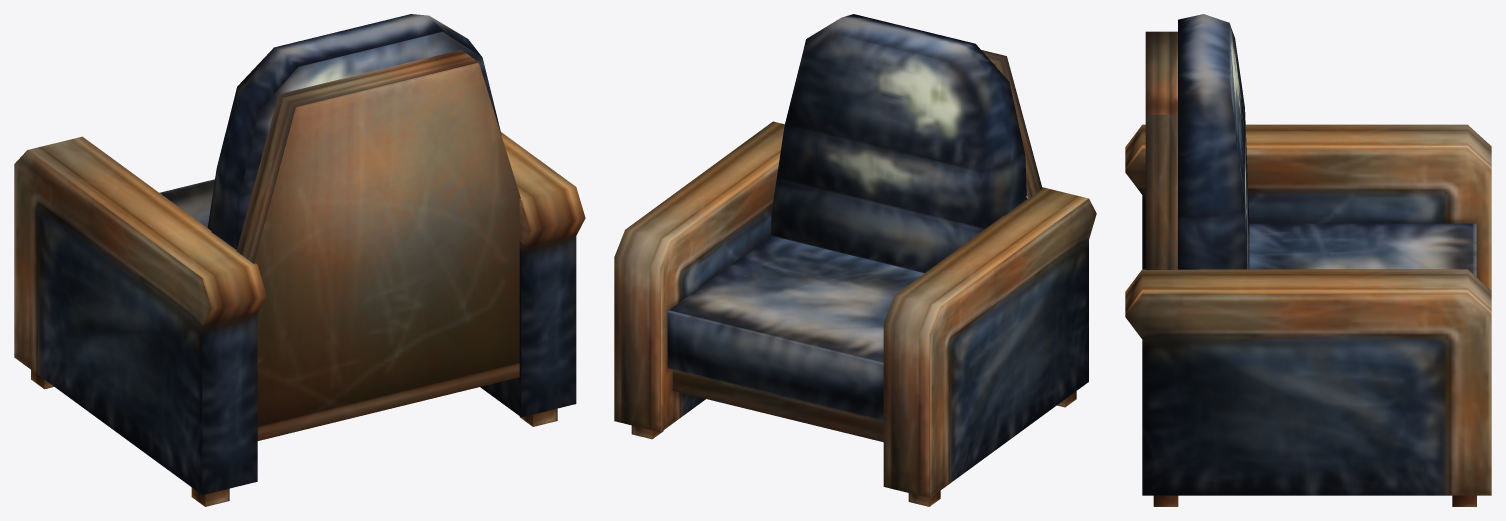
The model's file is c_SWGchair05A_b.glb.
3 renders of one model, left to right at view 1: azimuth 30°, elevation 25°; view 2: azimuth 150°, elevation 25°; view 3: azimuth 270°, elevation 25°, orthographic. The views are drawn at different scales.
Visible parts, largest first — view 1: c_SWGchair05A_b; view 2: c_SWGchair05A_b; view 3: c_SWGchair05A_b.
Part boxes in pixels (bbox=[...]): c_SWGchair05A_b: bbox=[14, 14, 585, 506]; c_SWGchair05A_b: bbox=[614, 14, 1096, 506]; c_SWGchair05A_b: bbox=[1125, 14, 1491, 506].
Size of the model in its own units: 0.9996 by 1.05 by 0.9136.
1 material, 1 textured.
